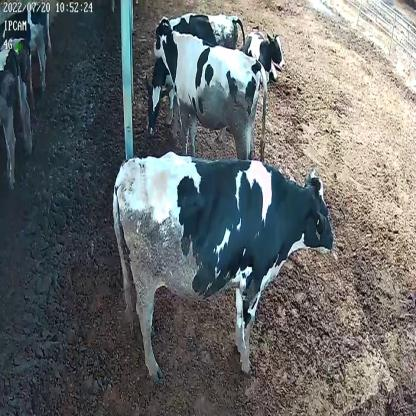cow: (111, 147, 337, 379), (152, 10, 270, 164), (143, 6, 244, 136), (242, 19, 286, 83)
